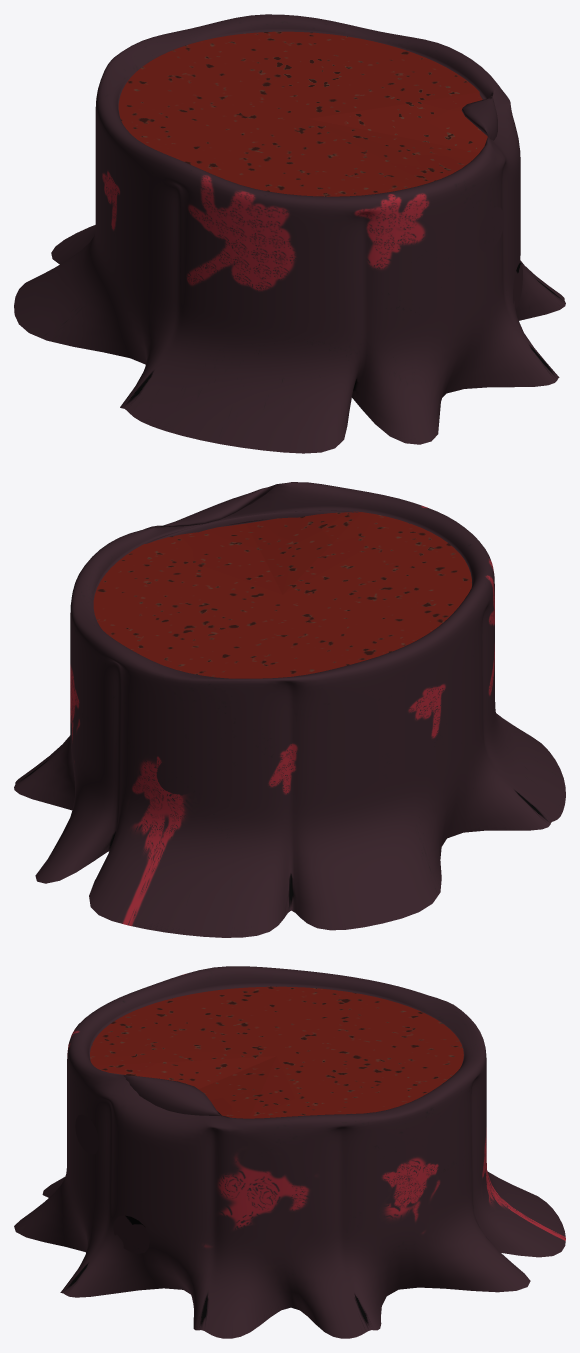
File: Stump_Short_Variation.fbx
3 views of the same model, one above another, from view 1: azimuth 30°, elevation 25°; view 2: azimuth 150°, elevation 25°; view 3: azimuth 270°, elevation 25° (orthographic). The views are drawn at different scales.
Parts seen in each view (by area): view 1: Stump.001; view 2: Stump.001; view 3: Stump.001.
Part boxes in pixels (left/top/right/bottom): Stump.001: left=14, top=14, right=565, bottom=453; Stump.001: left=14, top=482, right=565, bottom=937; Stump.001: left=14, top=966, right=565, bottom=1338.
Bounding box in the file's own units: 217 × 108 × 259.
